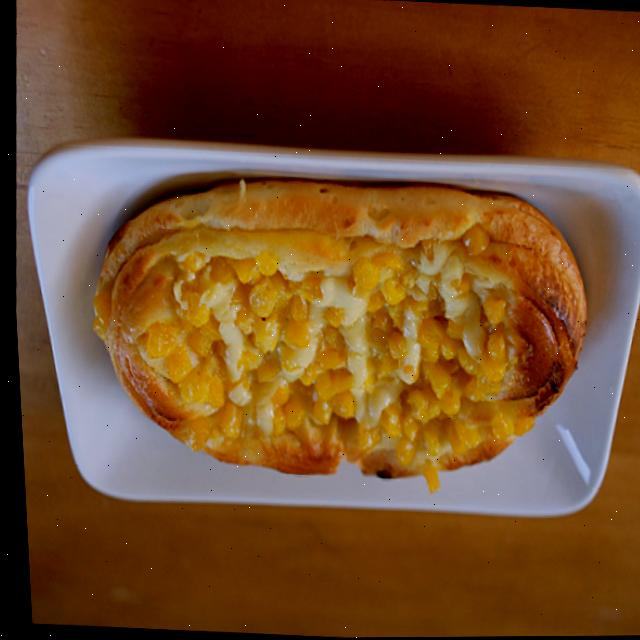三明治: (69, 152, 617, 514)
